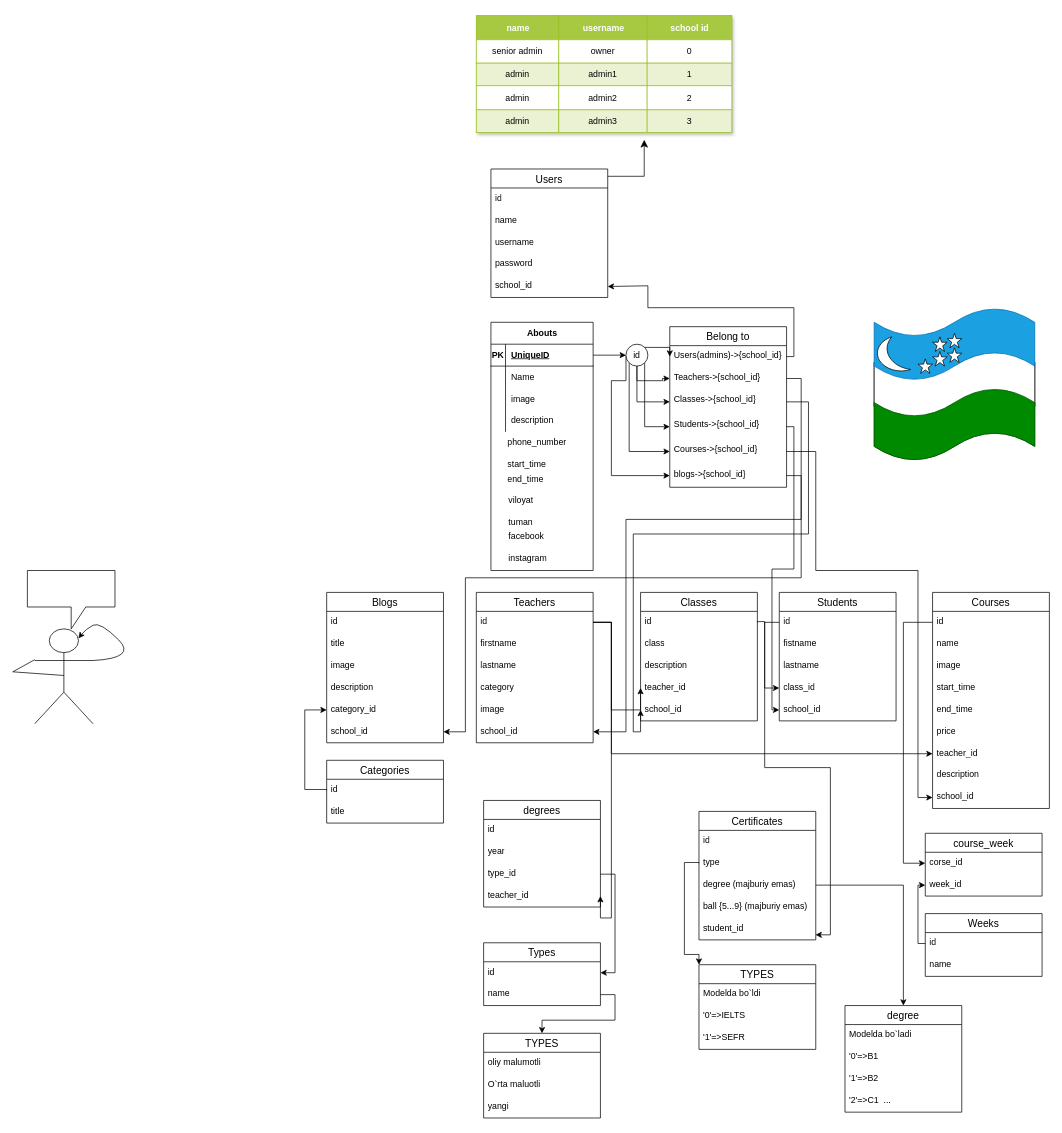
The diagram is 1062 pixels wide and 1133 high, and some of its shapes have lost their labels. The centre of each missing label's shape, as x and y in pixels:
Actor: point 63,676
Are you understand: point 71,599
